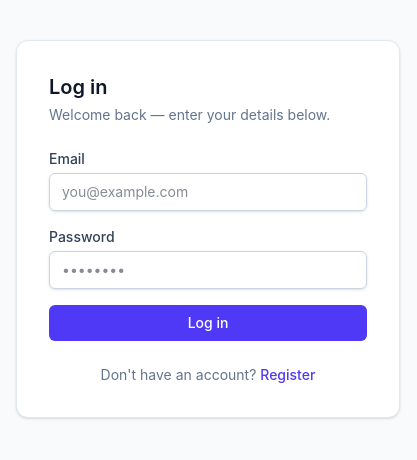
it: LoginPage › shows required-field errors when submitting an empty form
Click the button "Log in" at (208, 323), box left=49, top=305, right=367, bottom=341
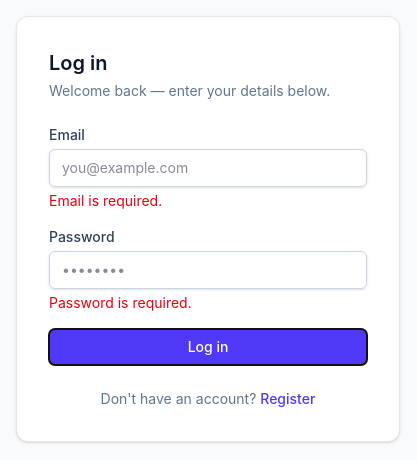
Expected: the text "Email is required." is shown, left=49, top=192, right=162, bottom=209
Expected: the text "Password is required." is shown, left=49, top=294, right=192, bottom=311
